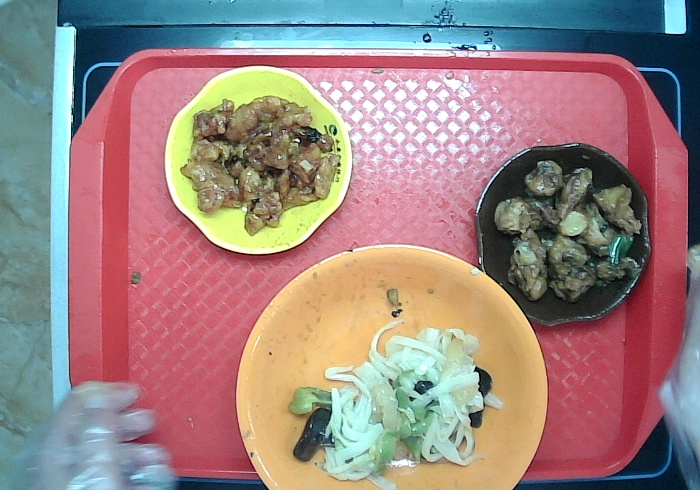YKMZ-Huang_Se_Ao_Bian_Wan: (163, 64, 354, 257)
YKMZ-Ju_Se_Tang_Wan: (233, 241, 550, 490)
YKMZ-Ka_Fei_Ao_Bian_Wan: (472, 139, 653, 327)
